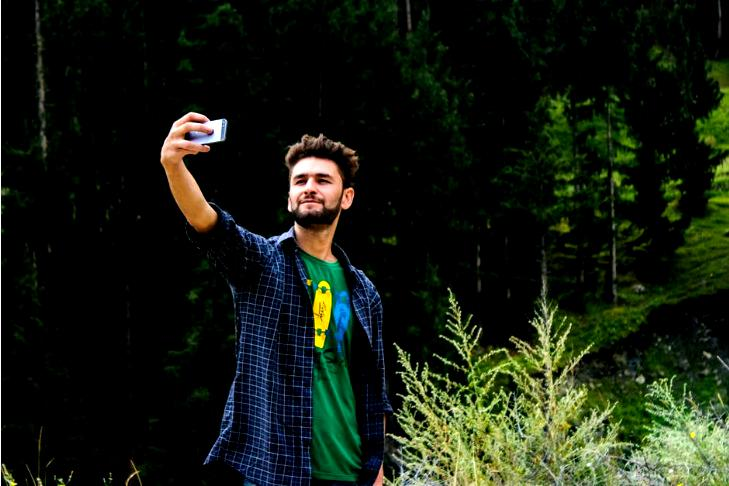face: (292, 158, 340, 223)
